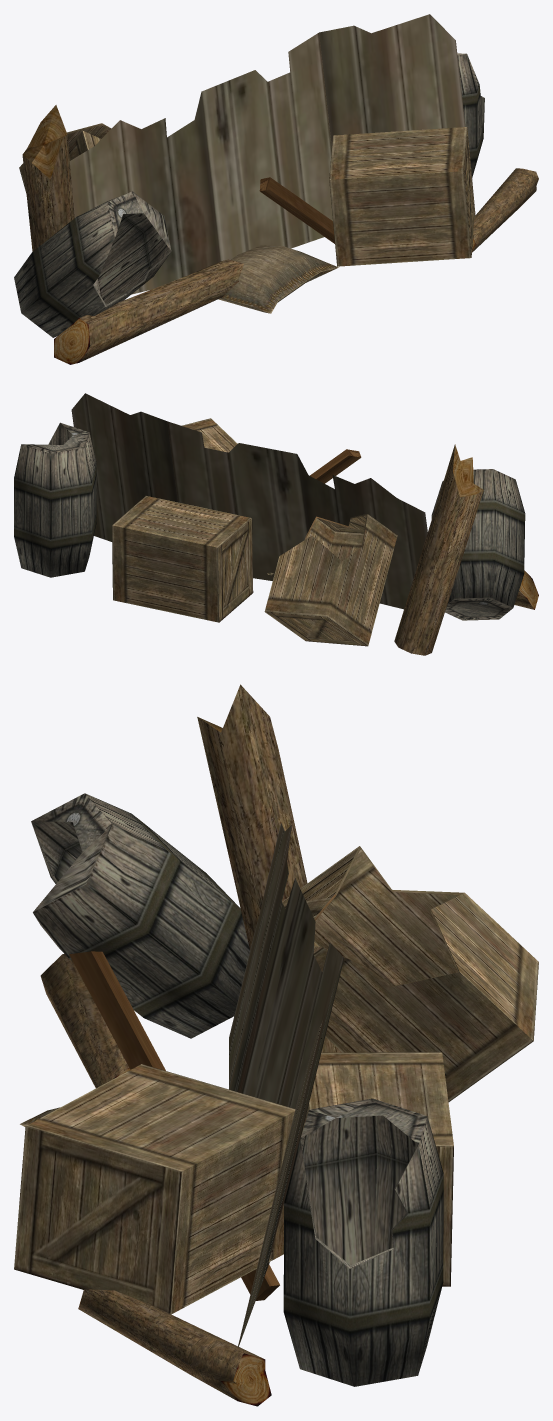
The model's file is pir_m_prp_inv_barricade03_destroyed.fbx.
3 views of the same model, one above another, from view 1: azimuth 30°, elevation 25°; view 2: azimuth 150°, elevation 25°; view 3: azimuth 270°, elevation 25° (orthographic). The views are drawn at different scales.
Parts seen in each view (by area): view 1: wooden_barricade, crate_2, barrelA, log_3, log_1, sack, log_2, barrelB, stick, brokenCrate; view 2: wooden_barricade, crate_1, brokenCrate, barrelB, barrelA, log_1, crate_2, stick, log_3; view 3: crate_2, barrelB, brokenCrate, barrelA, wooden_barricade, log_1, crate_1, log_2, log_3, stick.
Part boxes in pixels (x1,y1,x2,y2): wooden_barricade: (69, 14, 465, 294); crate_2: (329, 127, 475, 266); barrelA: (14, 191, 171, 337); log_3: (54, 259, 243, 364); log_1: (22, 105, 74, 251); sack: (218, 245, 338, 313); log_2: (472, 168, 538, 252); barrelB: (457, 53, 484, 177); stick: (259, 177, 334, 243); brokenCrate: (19, 123, 111, 192); wooden_barricade: (71, 393, 427, 609); crate_1: (112, 496, 253, 622); brokenCrate: (264, 514, 397, 646); barrelB: (14, 422, 96, 577); barrelA: (431, 469, 525, 620); log_1: (394, 444, 483, 655); crate_2: (181, 418, 237, 452); stick: (310, 449, 361, 483); log_3: (514, 570, 538, 609); crate_2: (14, 1064, 295, 1314); barrelB: (283, 1098, 443, 1386); brokenCrate: (282, 846, 538, 1101); barrelA: (31, 793, 249, 1038); wooden_barricade: (229, 823, 344, 1346); log_1: (197, 684, 341, 1052); crate_1: (301, 1052, 453, 1286); log_2: (78, 1289, 271, 1406); log_3: (40, 953, 130, 1088); stick: (69, 951, 279, 1300).
Size of the model in its own units: 2561 by 1053 by 1336.
1 material, 1 textured.
